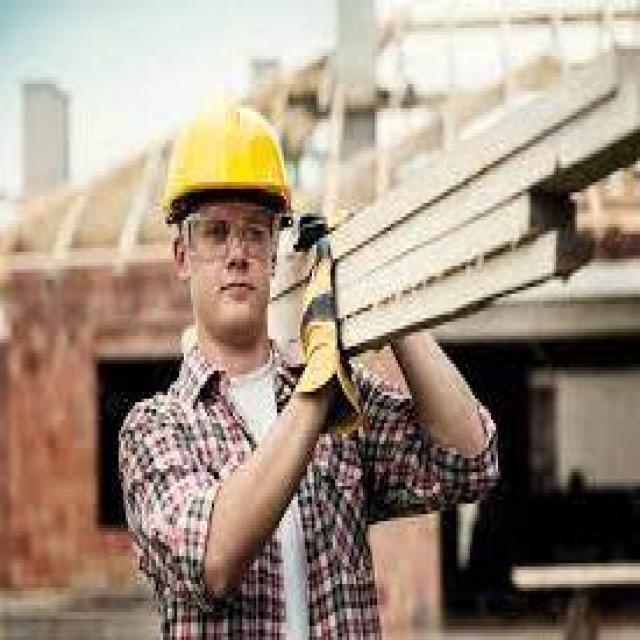Safety-Helmet: (156, 94, 305, 234)
